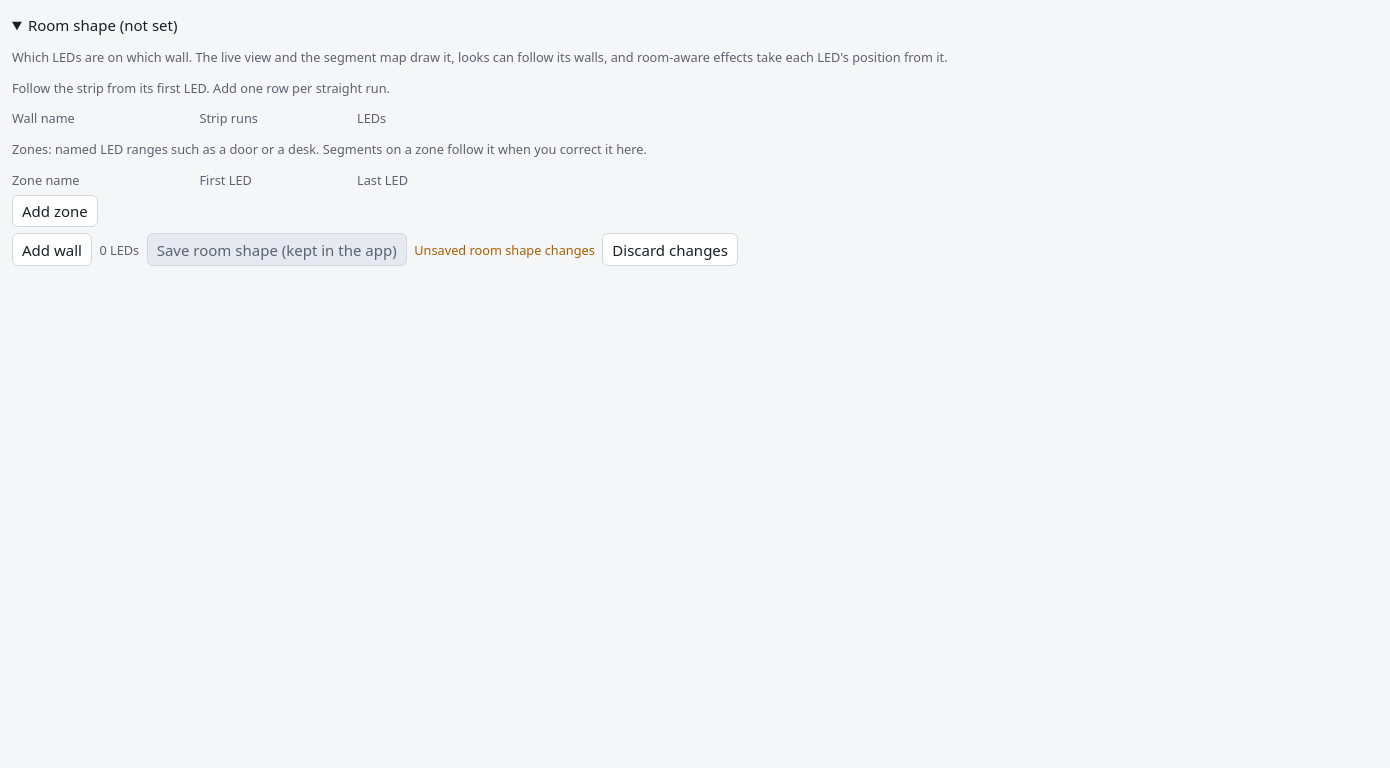
Test case: without a known LED count, only the total; opened on request
Expected: the heading "Room shape (not set)" is shown, [28, 15, 178, 35]
Click the button "Add wall" at coordinates (52, 250), box [12, 233, 92, 266]
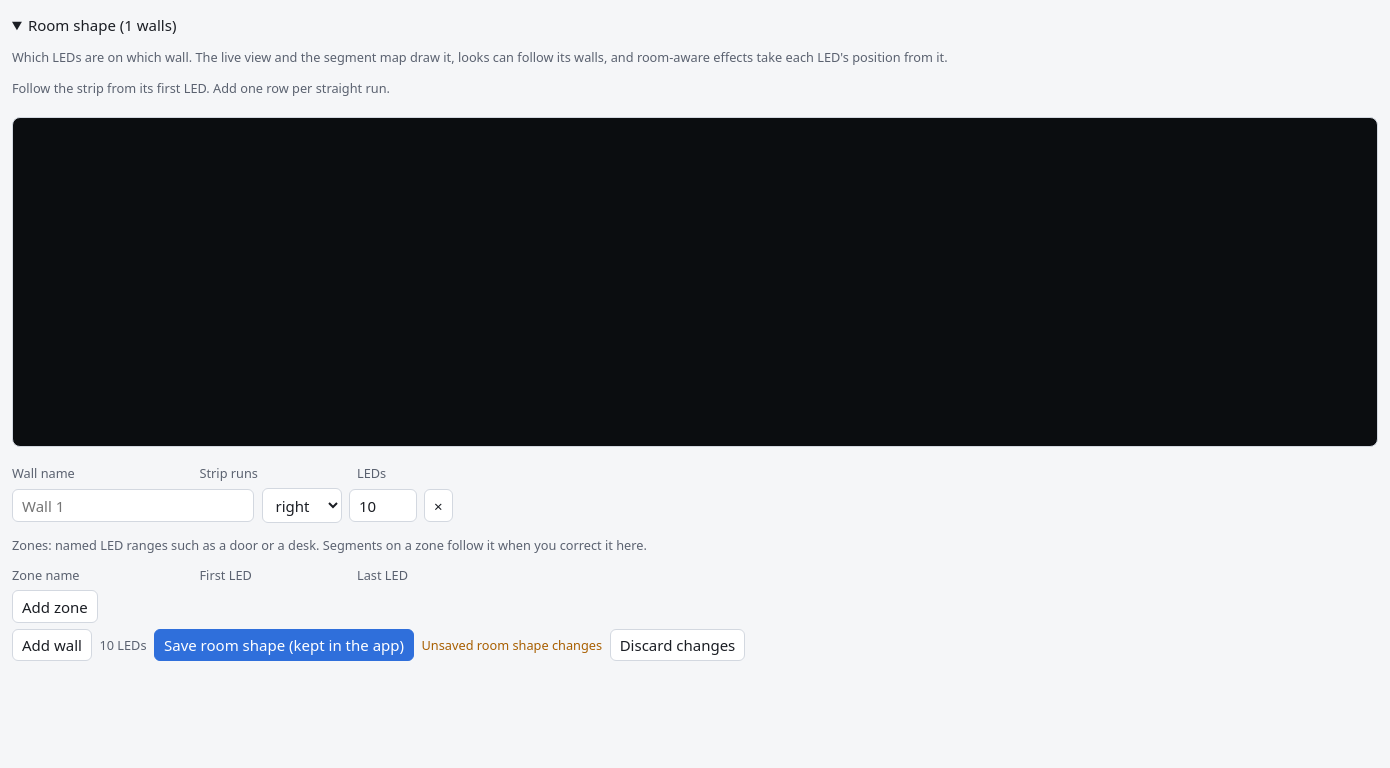
Result: the text "10 LEDs" is shown at [99, 636, 146, 654]
